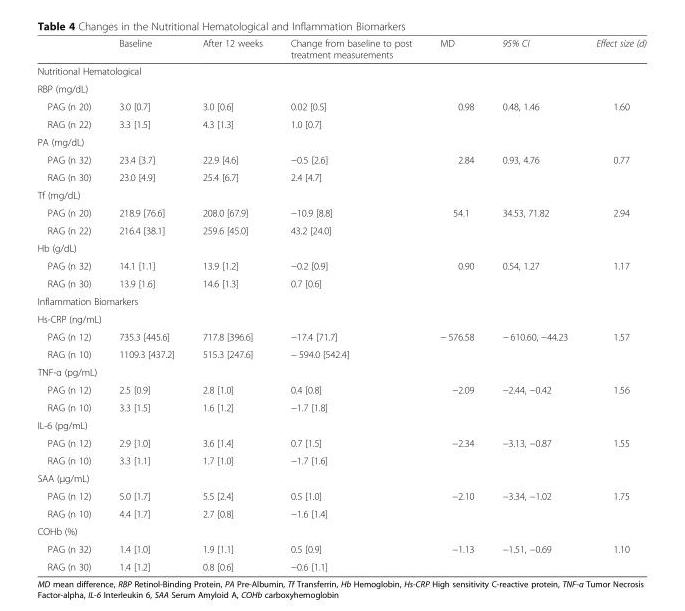table: (36, 37, 645, 572)
table column: (275, 37, 425, 572), (487, 37, 581, 572), (187, 37, 275, 572), (104, 37, 187, 572), (36, 37, 104, 572), (581, 37, 645, 572), (425, 37, 487, 572)
table column header: (36, 37, 645, 62)
table projected row header: (36, 79, 645, 97), (36, 132, 645, 150), (36, 185, 645, 203), (36, 238, 645, 256), (36, 309, 645, 327), (36, 362, 645, 380), (36, 415, 645, 433), (36, 468, 645, 486), (36, 62, 645, 79), (36, 292, 645, 309), (36, 522, 645, 539)
table row: (36, 37, 645, 62), (36, 79, 645, 97), (36, 97, 645, 115), (36, 132, 645, 150), (36, 150, 645, 168), (36, 185, 645, 203), (36, 203, 645, 221), (36, 238, 645, 256), (36, 256, 645, 274), (36, 274, 645, 292), (36, 309, 645, 327), (36, 344, 645, 362), (36, 362, 645, 380), (36, 380, 645, 398), (36, 415, 645, 433), (36, 433, 645, 451), (36, 468, 645, 486), (36, 486, 645, 504), (36, 504, 645, 522), (36, 539, 645, 557), (36, 62, 645, 79), (36, 115, 645, 132), (36, 168, 645, 185), (36, 221, 645, 238), (36, 292, 645, 309), (36, 327, 645, 344), (36, 398, 645, 415), (36, 451, 645, 468), (36, 522, 645, 539), (36, 557, 645, 572)
table spanning cell: (487, 256, 581, 292), (487, 486, 581, 522), (487, 97, 581, 132), (487, 150, 581, 185), (487, 203, 581, 238), (487, 327, 581, 362), (487, 380, 581, 415), (487, 433, 581, 468), (487, 539, 581, 572), (581, 256, 645, 292), (581, 486, 645, 522), (581, 97, 645, 132), (581, 150, 645, 185), (581, 203, 645, 238), (581, 327, 645, 362), (581, 380, 645, 415), (581, 433, 645, 468), (425, 256, 487, 292), (425, 486, 487, 522), (425, 97, 487, 132), (425, 150, 487, 185), (425, 203, 487, 238), (425, 327, 487, 362), (425, 380, 487, 415), (425, 433, 487, 468), (581, 539, 645, 572), (425, 539, 487, 572)
